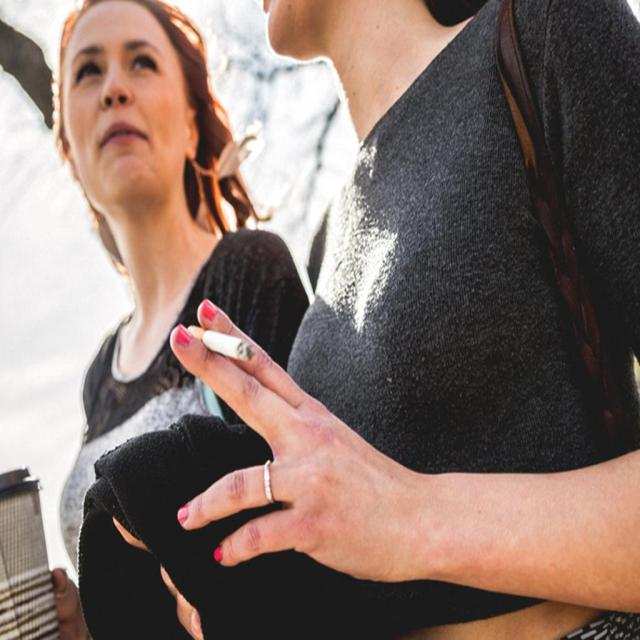smoking: (178, 323, 256, 362)
